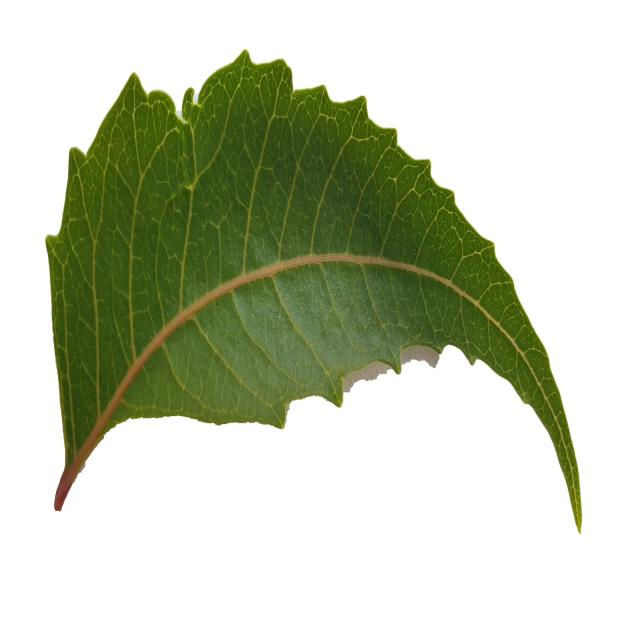Medicinal-Neem: (38, 46, 584, 534)
